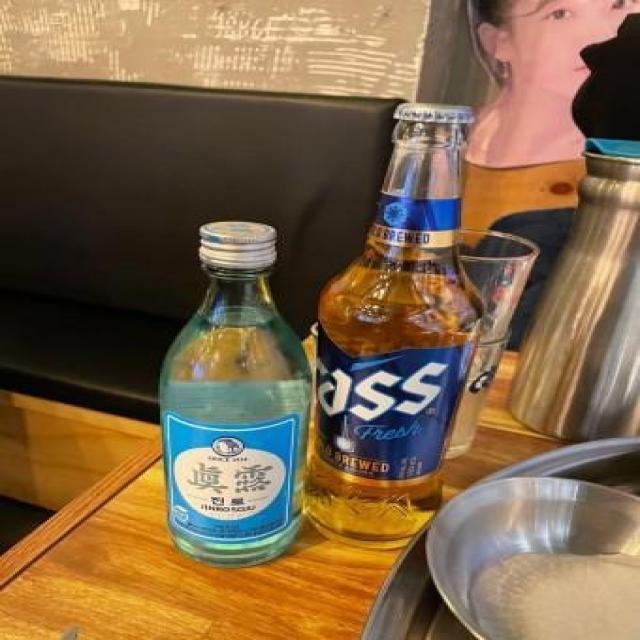beer-bottle: (334, 115, 466, 549)
soju-bottle: (156, 218, 316, 570)
